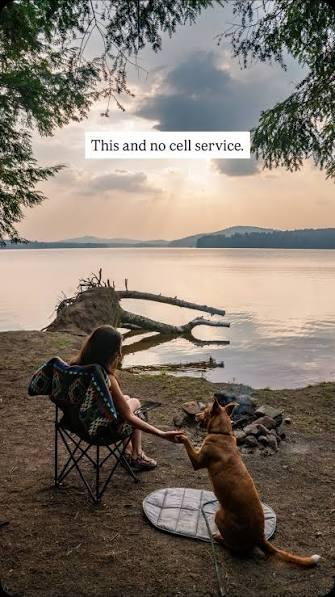adult_dog: (172, 394, 321, 567)
